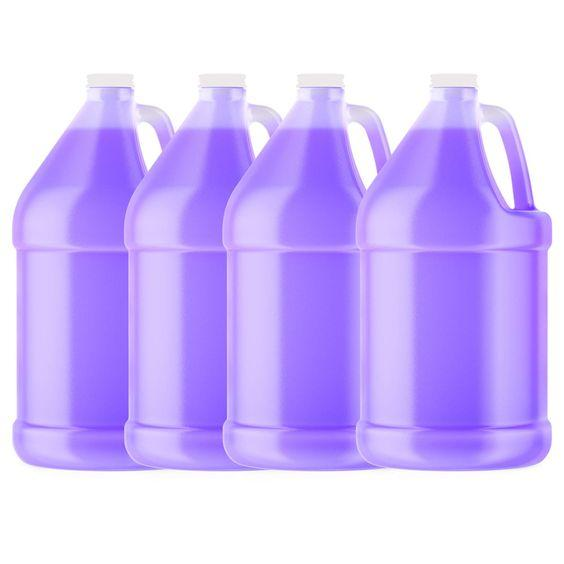HDPE: (347, 41, 564, 499)
